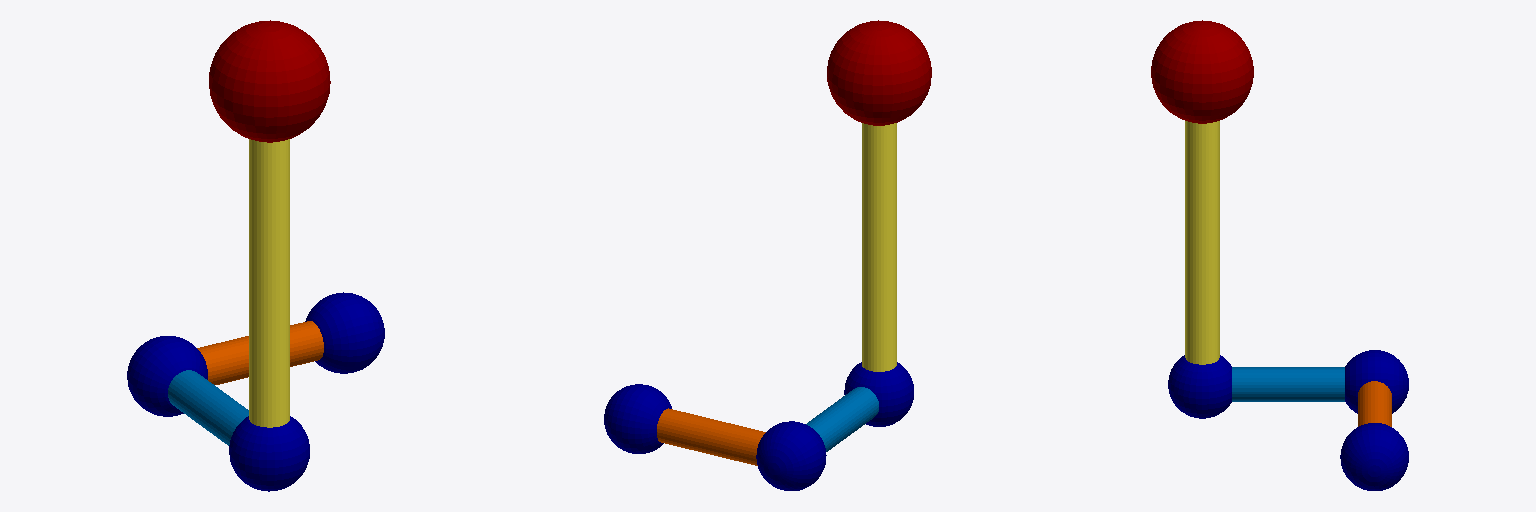
robot.urdf — RRRBot_description:
<?xml version="1.0" ?>
<!--simple pbot-->

<robot name="RRRBot_description">
    <link name="base_link">
        <inertial>
            <origin xyz="0.0 0.0 0.0" rpy="0 0 0" />
            <mass value="0.1" />
            <inertia ixx="0.1" iyy="0.1" izz="0.1" ixy="0" ixz="0" iyz="0" />
        </inertial>
        <visual>
            <origin xyz="0.0 0.0 0.0" rpy="0 0 0" />
            <geometry>
                <sphere radius="0.15" />
            </geometry>
            <material name="material_red">
                <color rgba="0.6 0.0 0.0 1.0" />
            </material>
        </visual>
    </link>
    <link name="link0">
        <inertial>
            <origin xyz="0.0 0.0 0.0" rpy="0 0 0" />
            <mass value="0.1" />
            <inertia ixx="0.1" iyy="0.1" izz="0.1" ixy="0" ixz="0" iyz="0" />
        </inertial>
    </link>
    <link name="link1">
        <inertial>
            <origin xyz="0.0 0.0 0.0" rpy="0 0 0" />
            <mass value="0.1" />
            <inertia ixx="0.1" iyy="0.1" izz="0.1" ixy="0" ixz="0" iyz="0" />
        </inertial>
    </link>
    <link name="link2">
        <inertial>
            <origin xyz="0.0 0.0 -1.0" rpy="0 0 0" />
            <mass value="1.0" />
            <inertia ixx="0.1" iyy="0.1" izz="0.1" ixy="0" ixz="0" iyz="0" />
        </inertial>
        <visual>
            <origin xyz="0.0 0.0 -1.0" rpy="0 0 0" />
            <geometry>
                <sphere radius="0.1" />
            </geometry>
            <material name="material_blue">
                <color rgba="0.0 0.0 0.6 1.0" />
            </material>
        </visual>
        <visual>
            <origin xyz="0.0 0.0 -0.5" rpy="0 0 0" />
            <geometry>
                <cylinder radius="0.05" length="1.0"/>
            </geometry>
        </visual>
    </link>
    <link name="link3">
        <inertial>
            <origin xyz="0.0 0.0 0.5" rpy="0 0 0" />
            <mass value="1.0" />
            <inertia ixx="0.1" iyy="0.1" izz="0.1" ixy="0" ixz="0" iyz="0" />
        </inertial>
        <visual>
            <origin xyz="0.0 0.0 0.5" rpy="0 0 0" />
            <geometry>
                <sphere radius="0.1" />
            </geometry>
            <material name="material_blue">
                <color rgba="0.0 0.0 0.6 1.0" />
            </material>
        </visual>
        <visual>
            <origin xyz="0.0 0.0 0.25" rpy="0 0 0" />
            <geometry>
                <cylinder radius="0.05" length="0.5"/>
            </geometry>
        </visual>
    </link>
    <link name="link4">
        <inertial>
            <origin xyz="0.0 0.0 0.5" rpy="0 0 0" />
            <mass value="1.0" />
            <inertia ixx="0.1" iyy="0.1" izz="0.1" ixy="0" ixz="0" iyz="0" />
        </inertial>
        <visual>
            <origin xyz="0.0 0.0 0.5" rpy="0 0 0" />
            <geometry>
                <sphere radius="0.1" />
            </geometry>
            <material name="material_blue">
                <color rgba="0.0 0.0 0.6 1.0" />
            </material>
        </visual>
        <visual>
            <origin xyz="0.0 0.0 0.25" rpy="0 0 0" />
            <geometry>
                <cylinder radius="0.05" length="0.5"/>
            </geometry>
        </visual>
    </link>

    <joint name="j0" type="continuous">
        <parent link="base_link" />
        <child link="link0" />
        <origin xyz="0.000000 0.000000 0.000000" rpy="-0.000000 0.000000 -0.000000" />
        <axis xyz="1 0 0" />
    </joint>
    <joint name="j1" type="continuous">
        <parent link="link0" />
        <child link="link1" />
        <origin xyz="0.000000 0.000000 0.000000" rpy="-0.000000 0.000000 -0.000000" />
        <axis xyz="0 1 0" />
    </joint>
    <joint name="j2" type="continuous">
        <parent link="link1" />
        <child link="link2" />
        <origin xyz="0.000000 0.000000 0.000000" rpy="-0.000000 0.000000 -0.000000" />
        <axis xyz="0 0 1" />
    </joint>
    <joint name="j3" type="fixed">
        <parent link="link2" />
        <child link="link3" />
        <origin xyz="0.000000 0.000000 -1.000000" rpy="-1.570796 0.000000 -0.000000" />
    </joint>
    <joint name="j4" type="fixed">
        <parent link="link3" />
        <child link="link4" />
        <origin xyz="0.000000 0.000000 0.500000" rpy="0.000000 1.570796 -0.000000" />
    </joint>
</robot>

--- Render facts (derived) ---
3 views of the same robot in one strip: view 1: azimuth 30°, elevation 25°; view 2: azimuth 150°, elevation 25°; view 3: azimuth 270°, elevation 25° (orthographic).
Robot: RRRBot_description — 6 links, 5 joints (3 continuous, 2 fixed); root link base_link; default pose: all joints at 0.
Links seen in each view (by area): view 1: link2, base_link, link4, link3; view 2: link2, base_link, link4, link3; view 3: link2, base_link, link3, link4.
Boxes of the visible links, x1,y1,x2,y2 form: link2: [229, 139, 309, 491]; base_link: [209, 20, 330, 142]; link4: [197, 292, 384, 384]; link3: [127, 336, 248, 445]; link2: [844, 123, 913, 426]; base_link: [827, 20, 931, 125]; link4: [604, 384, 765, 465]; link3: [756, 387, 878, 490]; link2: [1168, 121, 1231, 418]; base_link: [1151, 20, 1253, 123]; link3: [1232, 350, 1408, 413]; link4: [1340, 381, 1408, 490].
Bounding box of the posed robot: 0.75 × 0.75 × 1.25 m (x, y, z).
Geometry: primitives only (box / cylinder / sphere), no mesh files.